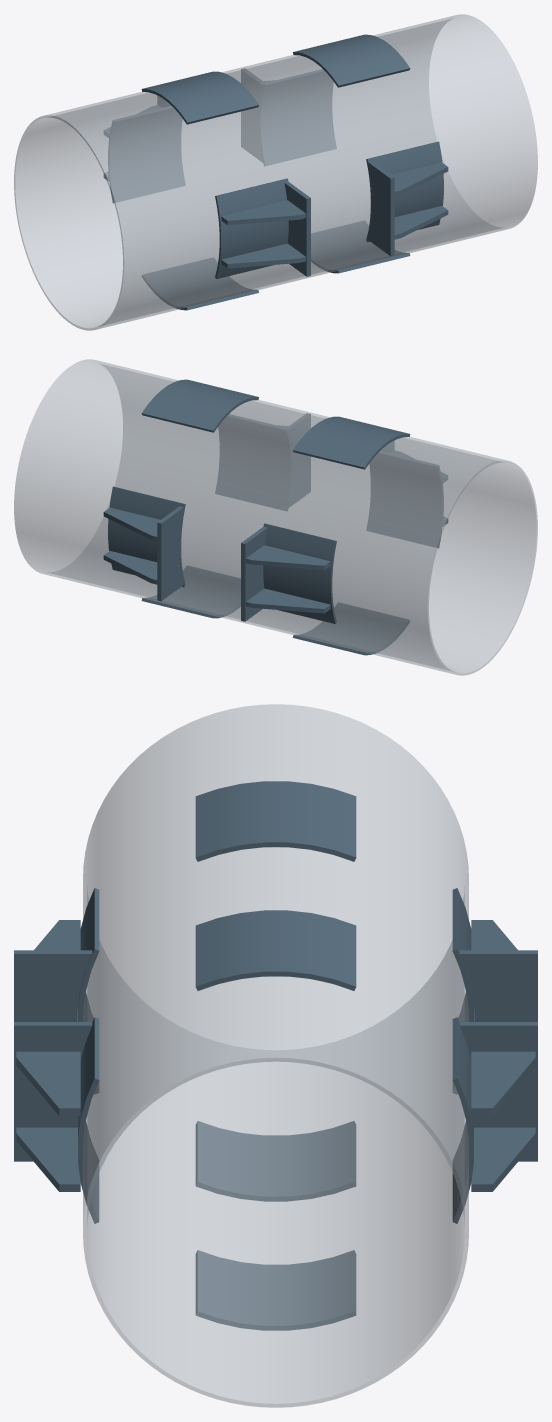
File: TS-663.00.00-07-opora-dn720.glb
3 renders of one model, top to bottom at view 1: azimuth 30°, elevation 25°; view 2: azimuth 150°, elevation 25°; view 3: azimuth 270°, elevation 25°, orthographic. The views are drawn at different scales.
Visible parts, largest first — view 1: truba, det_16, det_12, det_8, det_17, det_18, det_20, det_4, det_19, det_1, det_5, det_9 (+4 smaller); view 2: truba, det_8, det_4, det_16, det_17, det_18, det_20, det_12, det_19, det_9, det_13, det_1 (+4 smaller); view 3: truba, det_18, det_17, det_19, det_20, det_5, det_13, det_1, det_9, det_2, det_11, det_4 (+7 smaller).
Part boxes in pixels (<box>): truba: <box>14,14,537,330</box>; det_16: <box>108,106,185,203</box>; det_12: <box>259,69,336,165</box>; det_8: <box>215,178,288,278</box>; det_17: <box>293,34,410,87</box>; det_18: <box>141,71,258,124</box>; det_20: <box>142,257,258,310</box>; det_4: <box>366,141,443,242</box>; det_19: <box>311,221,410,273</box>; det_1: <box>368,161,394,256</box>; det_5: <box>284,182,310,276</box>; det_9: <box>241,68,264,162</box>; truba: <box>14,359,537,675</box>; det_8: <box>366,451,443,548</box>; det_4: <box>215,414,292,510</box>; det_16: <box>263,523,336,623</box>; det_17: <box>141,379,258,432</box>; det_18: <box>293,416,410,469</box>; det_20: <box>293,602,409,655</box>; det_12: <box>108,486,185,587</box>; det_19: <box>141,566,240,618</box>; det_9: <box>157,506,183,601</box>; det_13: <box>241,527,267,621</box>; det_1: <box>287,413,310,507</box>; truba: <box>83,704,468,1407</box>; det_18: <box>195,781,356,861</box>; det_17: <box>195,910,356,990</box>; det_19: <box>195,1250,356,1330</box>; det_20: <box>195,1121,356,1201</box>; det_5: <box>14,950,92,1021</box>; det_13: <box>459,950,537,1021</box>; det_1: <box>14,1022,92,1161</box>; det_9: <box>459,1022,537,1161</box>; det_2: <box>16,1051,80,1116</box>; det_11: <box>471,1051,535,1116</box>; det_4: <box>78,1017,99,1223</box>.
Size of the model in its own units: 1560 by 739 by 977.
